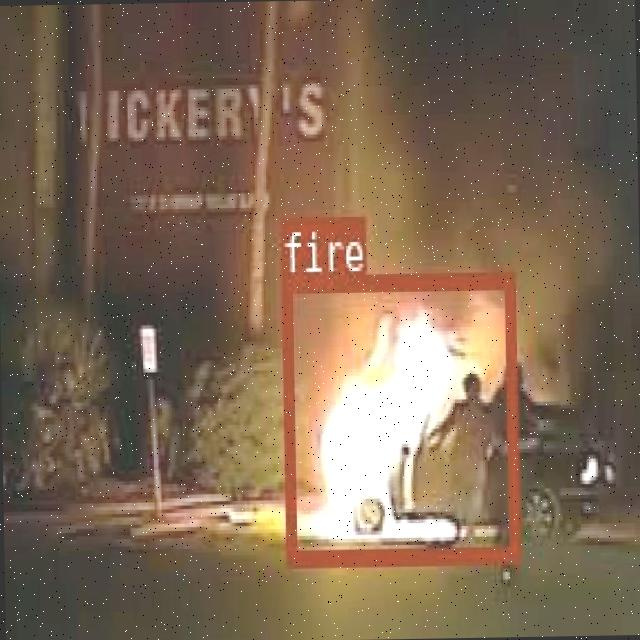fire: (278, 270, 516, 564)
